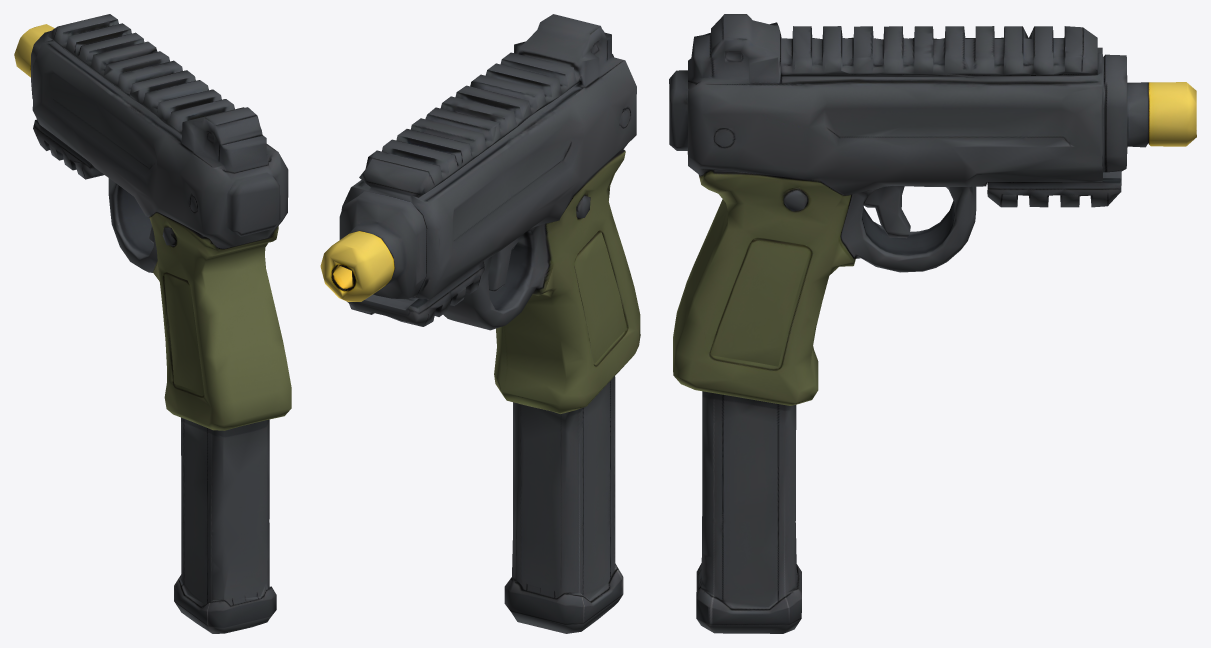
Rendered from rattler_tripo_raw.glb.
3 renders of one model, left to right at view 1: azimuth 30°, elevation 25°; view 2: azimuth 150°, elevation 25°; view 3: azimuth 270°, elevation 25°, orthographic. The views are drawn at different scales.
Visible parts, largest first — view 1: tripo_node_31d829ff-915f-4376-85ac-576f5c2261b7; view 2: tripo_node_31d829ff-915f-4376-85ac-576f5c2261b7; view 3: tripo_node_31d829ff-915f-4376-85ac-576f5c2261b7.
Boxes of the visible parts, x1,y1,x2,y2 form: tripo_node_31d829ff-915f-4376-85ac-576f5c2261b7: [14, 14, 291, 633]; tripo_node_31d829ff-915f-4376-85ac-576f5c2261b7: [320, 14, 640, 633]; tripo_node_31d829ff-915f-4376-85ac-576f5c2261b7: [669, 14, 1196, 633].
Size of the model in its own units: 0.1793 by 1 by 0.8087.
1 material, 1 textured.
